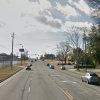Car: (76, 67, 100, 91)
